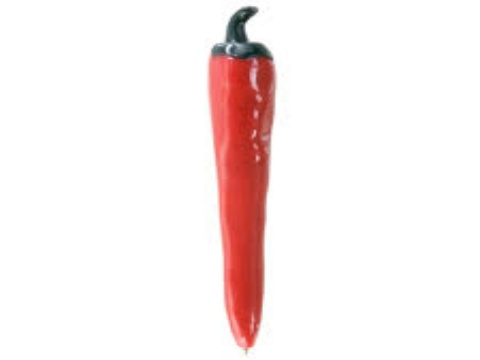Chilli: (182, 5, 302, 351)
